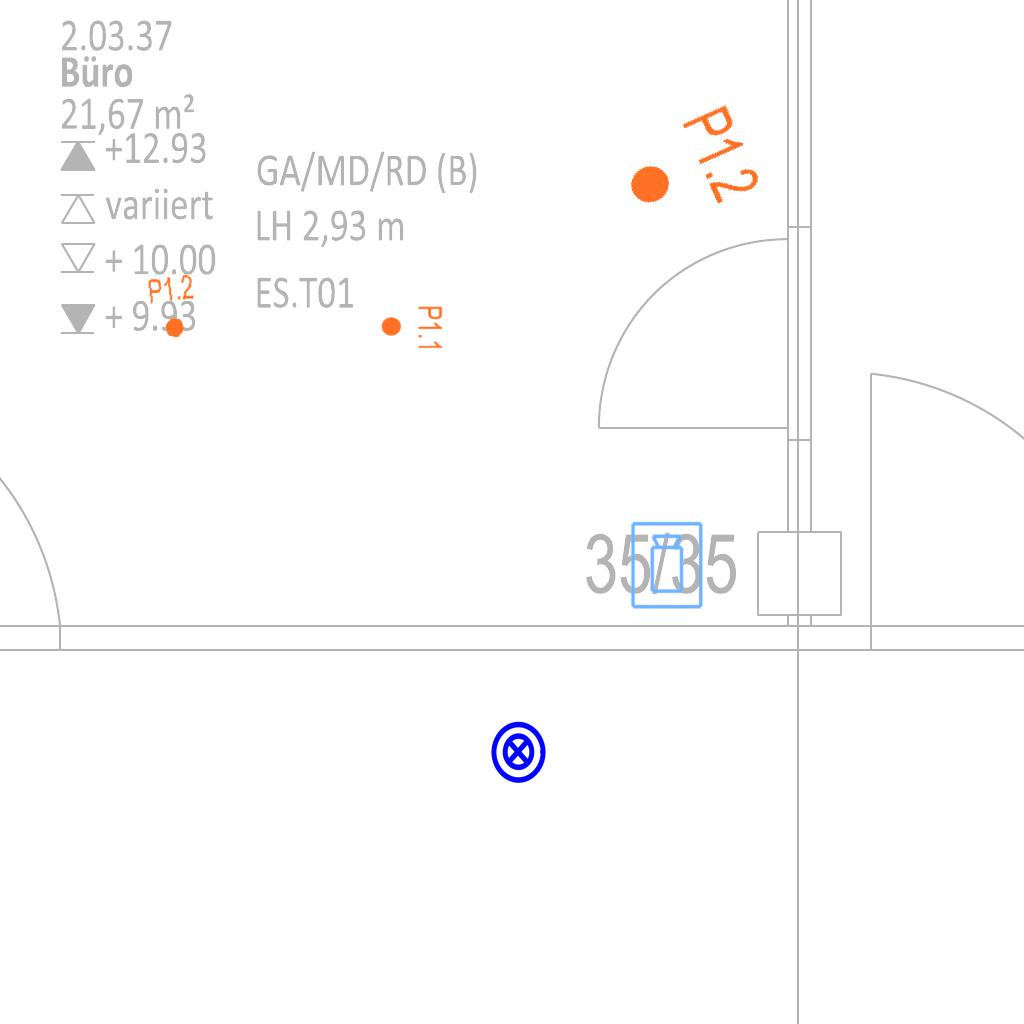Downlight_LED_Einbauleuchten_Flur: (611, 100, 766, 238), (146, 272, 200, 342)
Downlight_LED_Einbauleuchten_Flur_2: (380, 305, 444, 351)
KFO_Kamera_mit_Festobjektiv: (629, 520, 706, 611)
Taster_beleuchtet: (485, 719, 551, 785)
